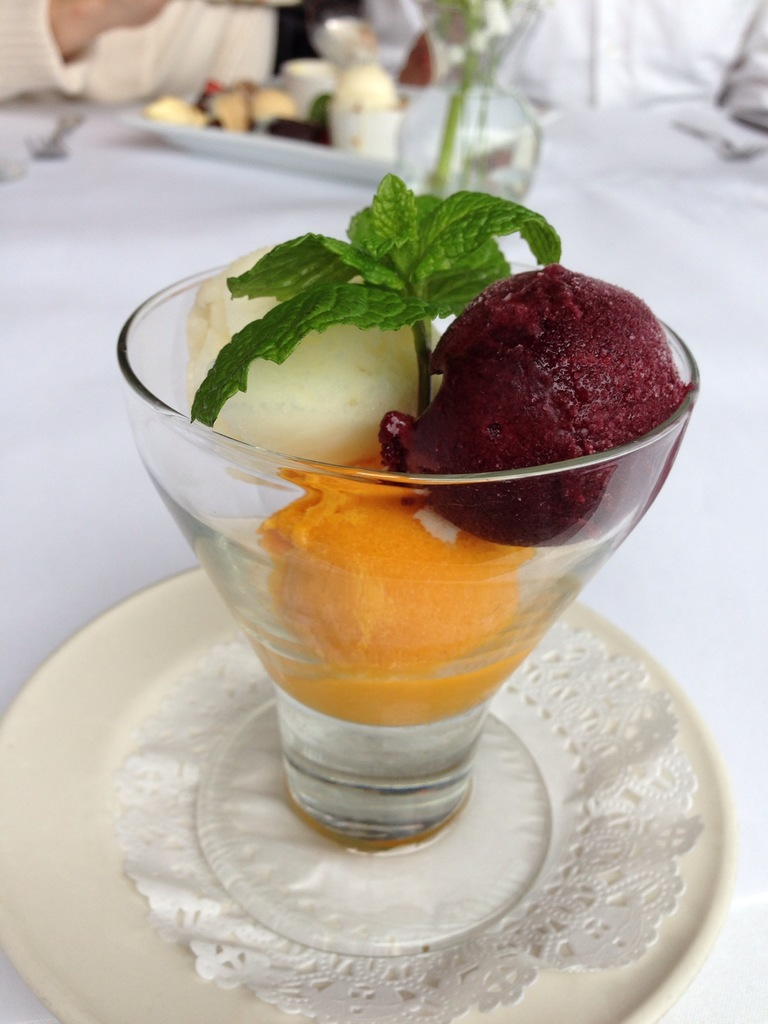person: (3, 0, 438, 128)
